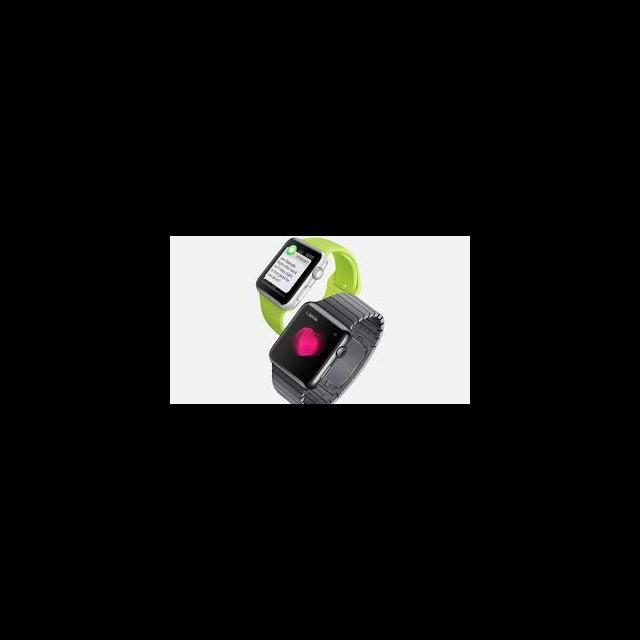watch: (264, 297, 384, 403), (245, 238, 353, 294)
